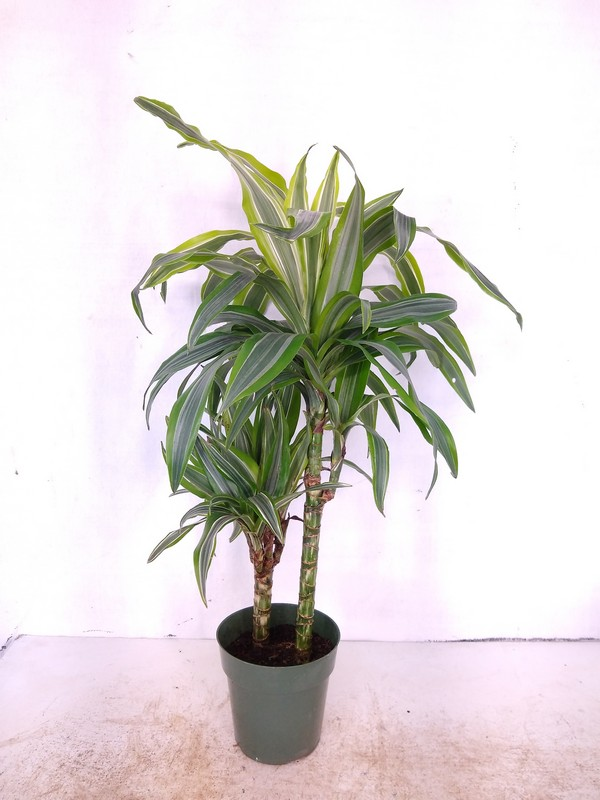plant: (133, 95, 528, 655)
pot: (214, 602, 342, 769)
